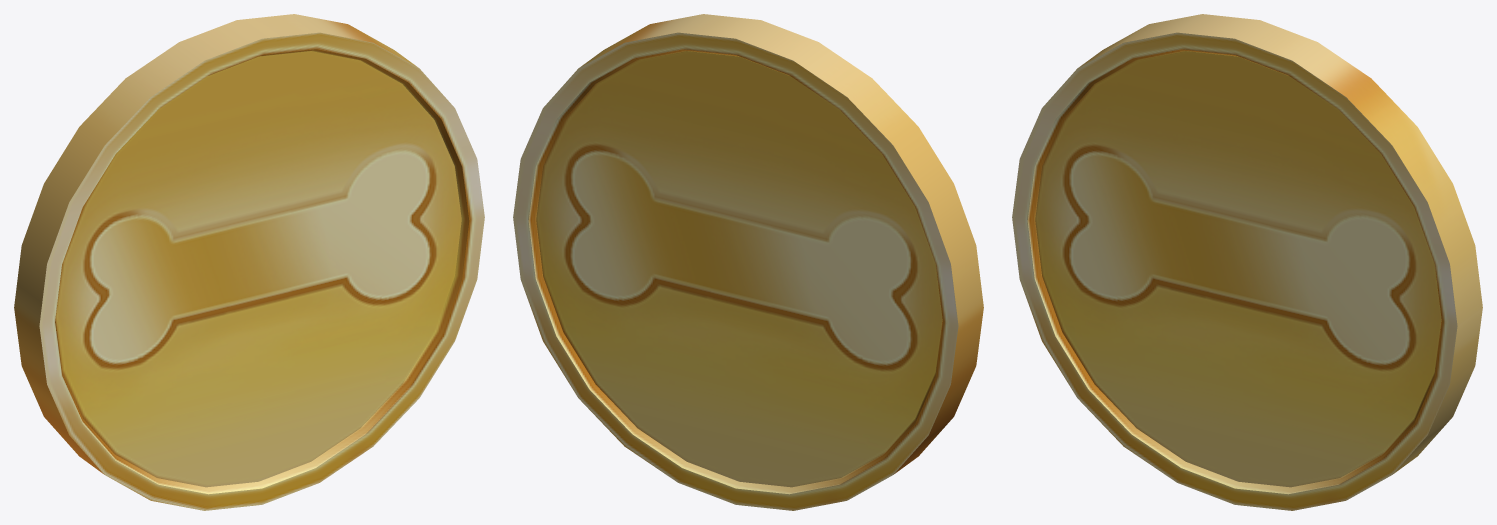
The model's file is JinBi.FBX.
The picture shows the model from 3 angles, left to right: view 1: azimuth 30°, elevation 25°; view 2: azimuth 150°, elevation 25°; view 3: azimuth 330°, elevation 25°; orthographic projection.
Visible parts, largest first — view 1: 对象002; view 2: 对象002; view 3: 对象002.
Boxes of the visible parts, left/top/right/bottom form: 对象002: left=14, top=14, right=484, bottom=510; 对象002: left=513, top=14, right=983, bottom=510; 对象002: left=1012, top=14, right=1482, bottom=510.
Size of the model in its own units: 51.67 by 51.67 by 5.1.
1 material, 1 textured.
